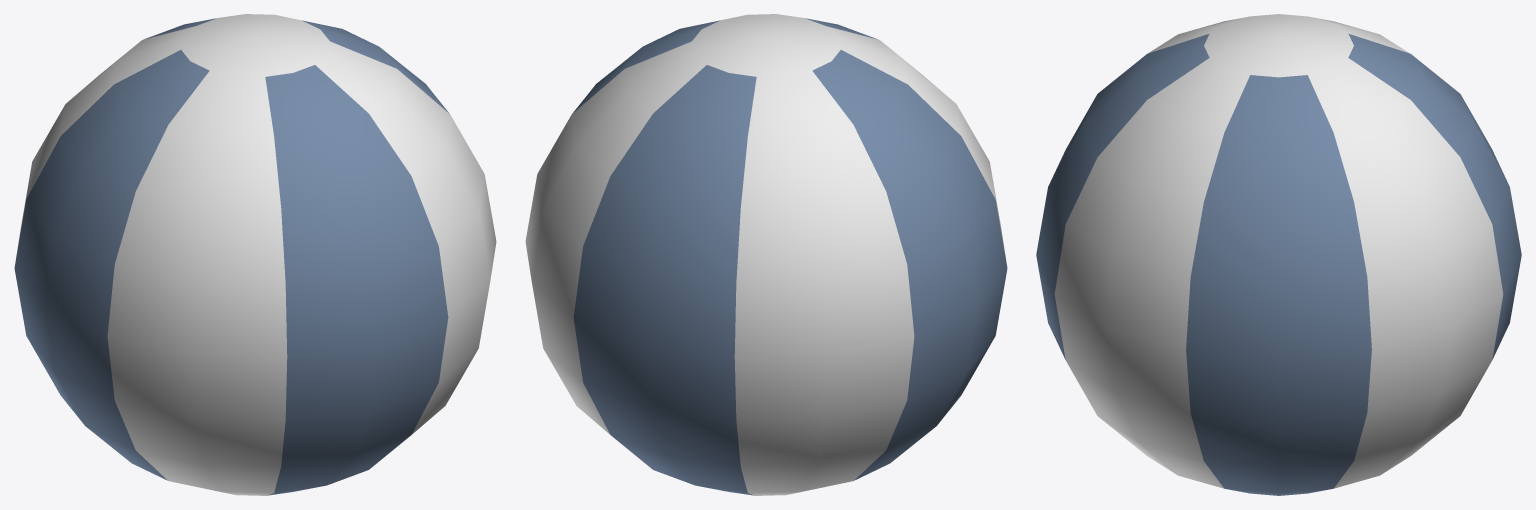
The model's file is Ball_02.fbx.
The picture shows the model from 3 angles, left to right: view 1: azimuth 30°, elevation 25°; view 2: azimuth 150°, elevation 25°; view 3: azimuth 270°, elevation 25°; orthographic projection.
Visible parts, largest first — view 1: Ball_02; view 2: Ball_02; view 3: Ball_02.
Boxes of the visible parts, <box> form: Ball_02: <box>14,14,496,495</box>; Ball_02: <box>525,14,1007,495</box>; Ball_02: <box>1036,14,1521,495</box>.
Bounding box in the file's own units: 30.35 × 30.35 × 30.35.
